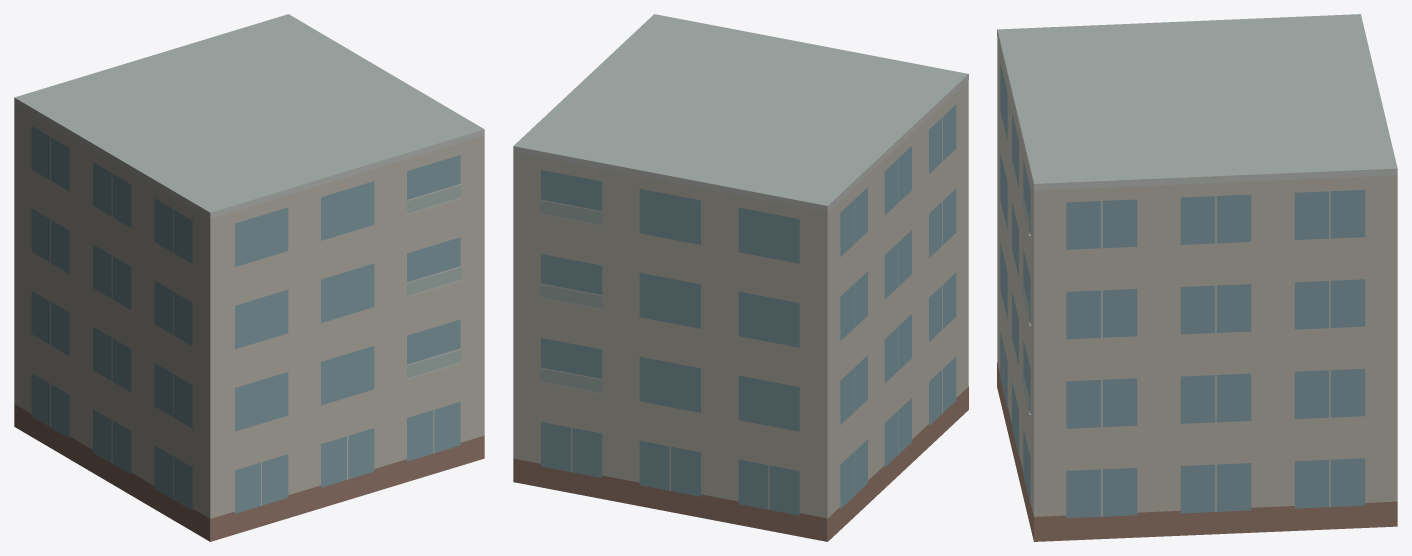
File: survey-upis-32850364.glb
3 views of the same model, side by side, from view 1: azimuth 30°, elevation 25°; view 2: azimuth 150°, elevation 25°; view 3: azimuth 270°, elevation 25° (orthographic). The views are drawn at different scales.
Visible parts, largest first — view 1: survey-upis-32850364.tmp; view 2: survey-upis-32850364.tmp; view 3: survey-upis-32850364.tmp.
Part boxes in pixels (<box>): survey-upis-32850364.tmp: <box>14,14,484,541</box>; survey-upis-32850364.tmp: <box>513,14,968,541</box>; survey-upis-32850364.tmp: <box>997,14,1397,541</box>.
Size of the model in its own units: 13.24 by 13 by 13.19.
